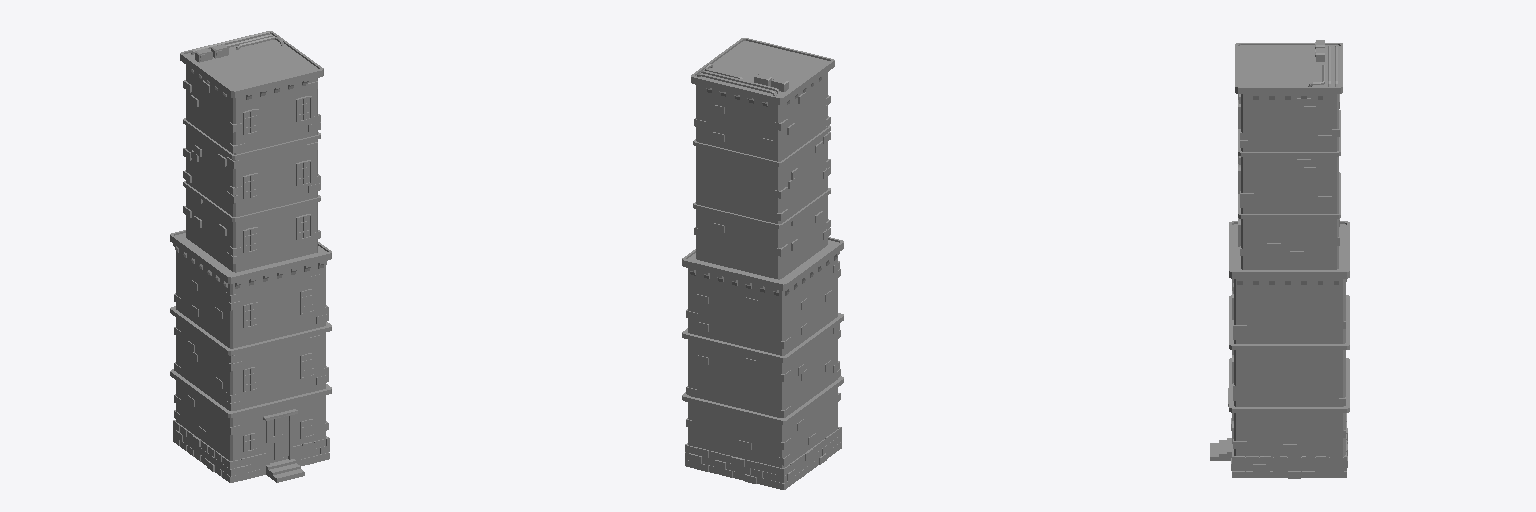
Rendered from 6Story_Stack.obj.
3 renders of one model, left to right at view 1: azimuth 30°, elevation 25°; view 2: azimuth 150°, elevation 25°; view 3: azimuth 270°, elevation 25°, orthographic.
Parts seen in each view (by area): view 1: 6Story_Stack_Cube.137; view 2: 6Story_Stack_Cube.137; view 3: 6Story_Stack_Cube.137.
Boxes of the visible parts, x1=… form: 6Story_Stack_Cube.137: x1=170, y1=31, x2=331, y2=482; 6Story_Stack_Cube.137: x1=682, y1=38, x2=843, y2=489; 6Story_Stack_Cube.137: x1=1210, y1=40, x2=1349, y2=478.
Bounding box in the file's own units: 2.16 × 7.8 × 2.5.